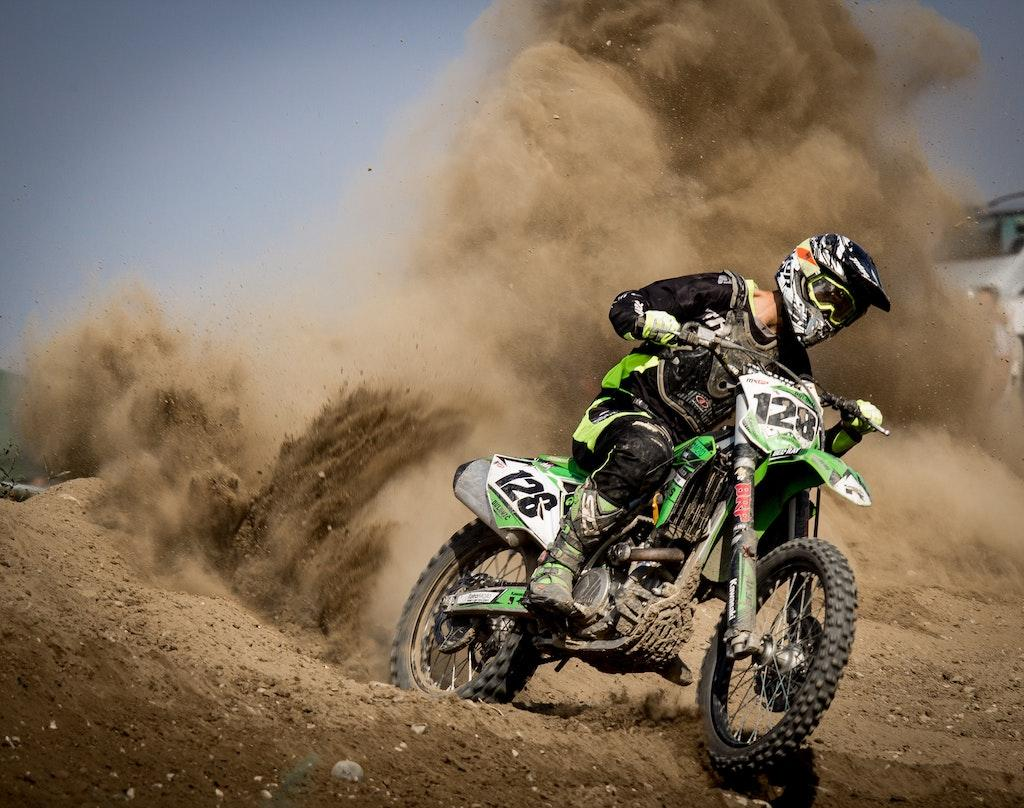helmet: (774, 232, 892, 351)
